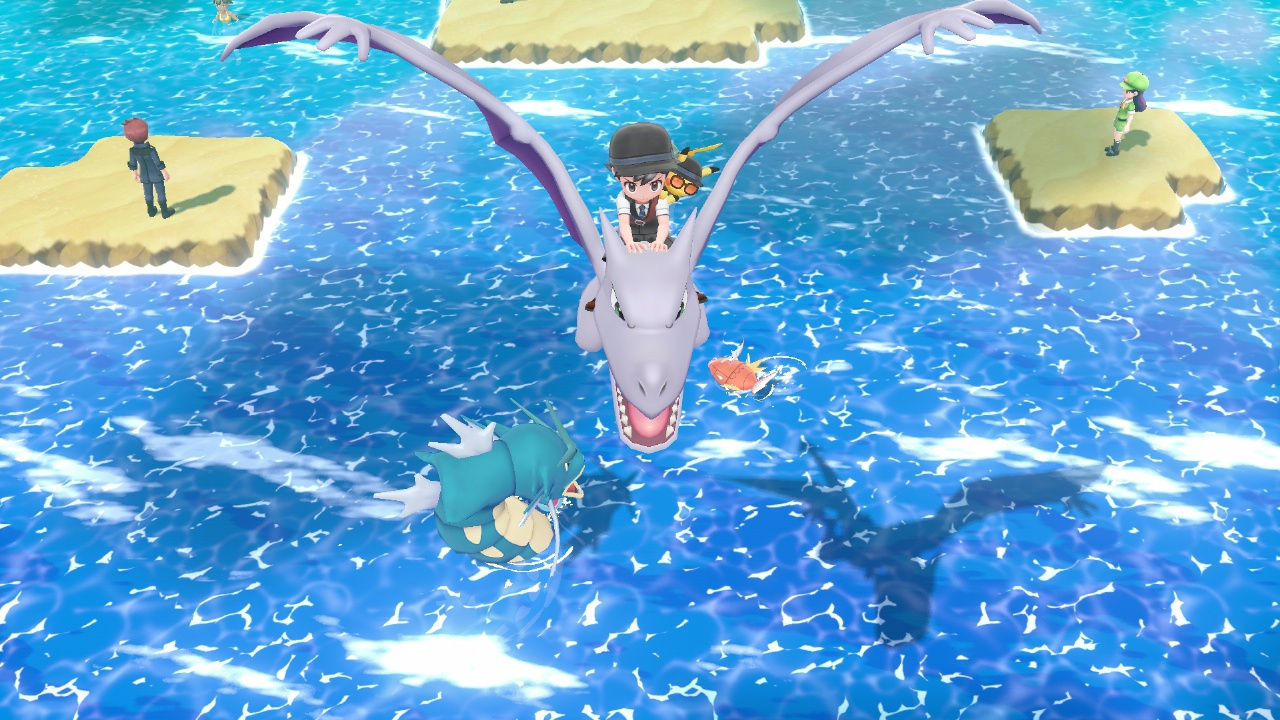Red: (705, 342, 778, 399)
